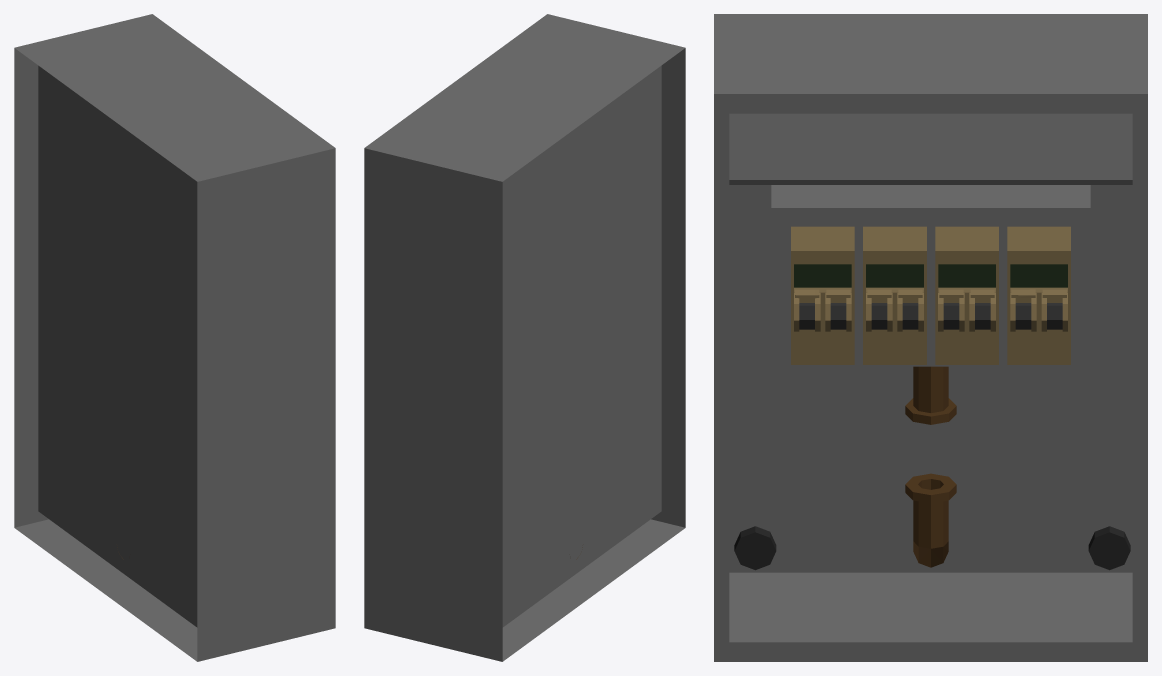
File: staticMesh_prop_ElectricBox.fbx
3 views of the same model, side by side, from view 1: azimuth 30°, elevation 25°; view 2: azimuth 150°, elevation 25°; view 3: azimuth 270°, elevation 25° (orthographic). The views are drawn at different scales.
Parts seen in each view (by area): view 1: polySurface1; view 2: polySurface1; view 3: polySurface1.
Boxes of the visible parts, bbox=[...] form: polySurface1: bbox=[14, 14, 335, 661]; polySurface1: bbox=[364, 14, 685, 661]; polySurface1: bbox=[714, 14, 1147, 661].
Size of the model in its own units: 30.35 by 100 by 69.2.
